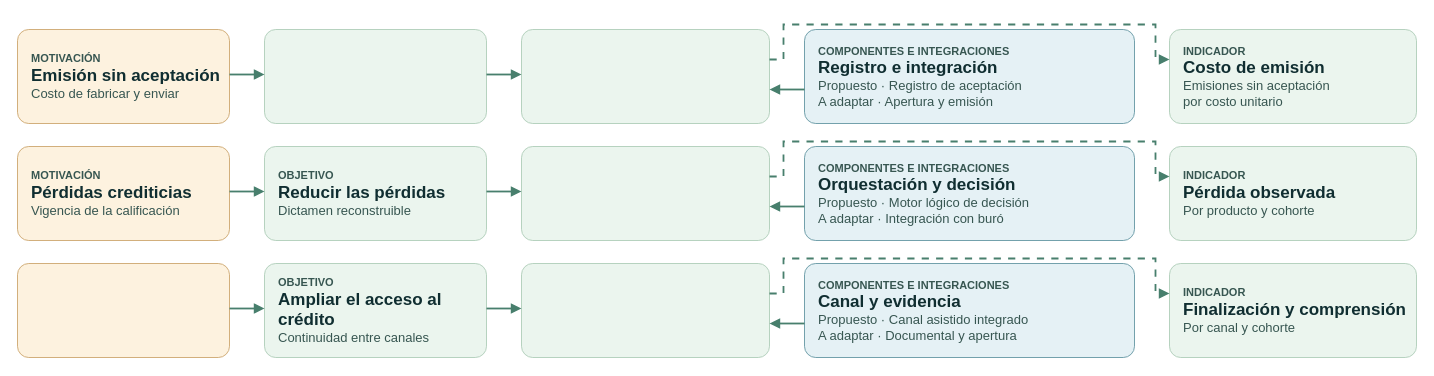
The diagram is 1434 pixels wide and 376 high, and some of its shapes have lost their labels. The shapes that lost their labels are listed below. From the top down, each one's centre as x and y in pixels, then its label:
At (x=375, y=76): "OBJETIVO Reducir el costo de emisión Emitir después de la aceptación".
At (x=645, y=76): "CAMBIO OPERATIVO Confirmar antes de abrir Ordenar la emisión cuando aplique".
At (x=645, y=193): "CAMBIO OPERATIVO Consultar datos vigentes Registrar fuente, regla y versión".
At (x=123, y=310): "MOTIVACIÓN Barreras de acceso Trámites que cuesta completar".
At (x=645, y=310): "CAMBIO OPERATIVO Retomar con un asesor Conservar identidad y estado".
